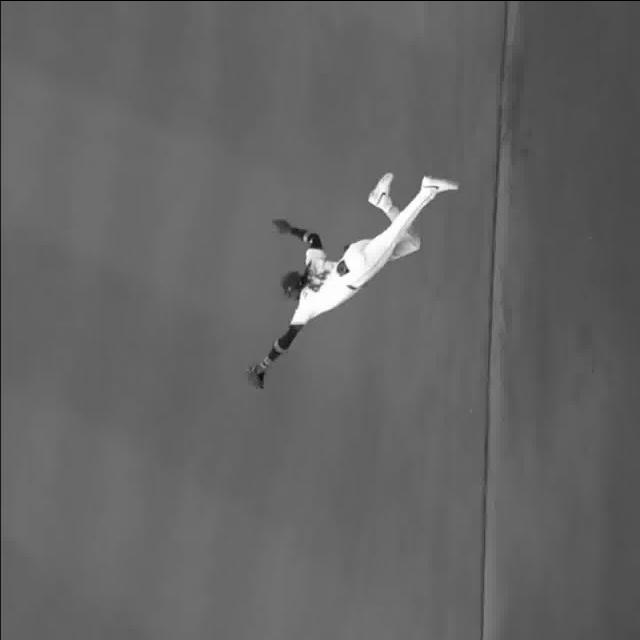baseball_glove: (244, 360, 266, 390)
shoe: (420, 168, 462, 192), (367, 171, 396, 204)
